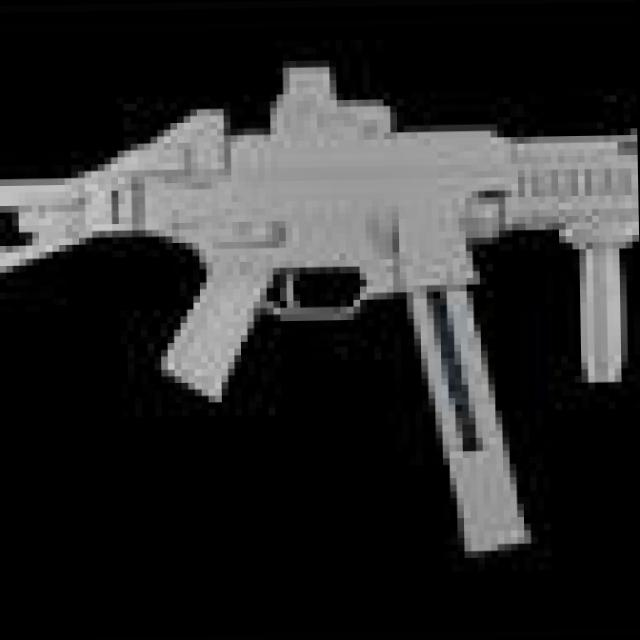Gun: (0, 54, 640, 565)
